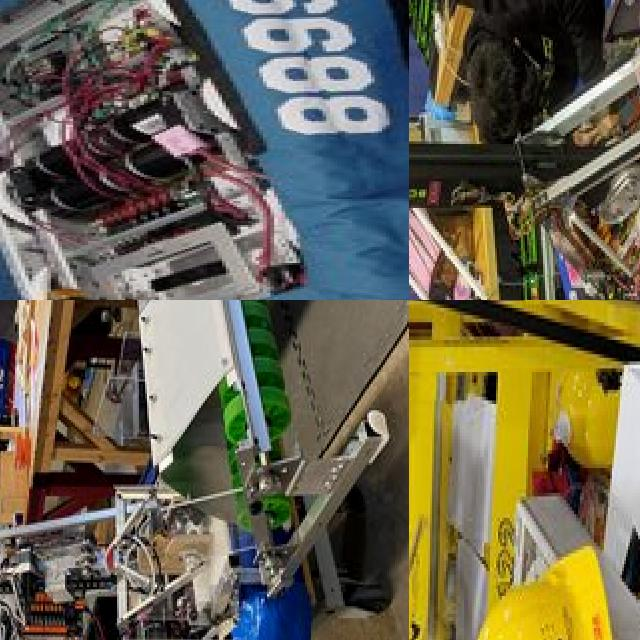FRC-Robots: (0, 300, 407, 640), (0, 0, 409, 300), (409, 300, 640, 640), (409, 0, 640, 300)
